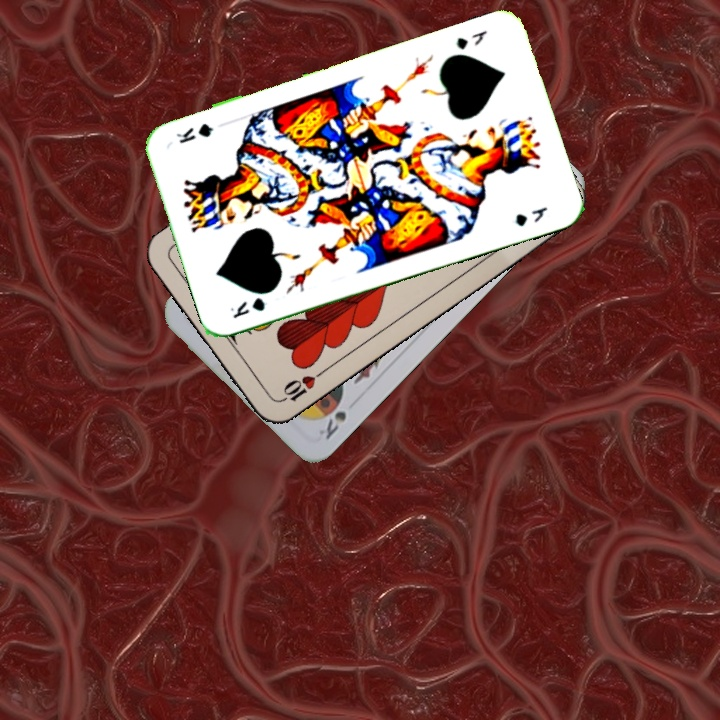GK: (226, 293, 271, 321), (452, 26, 490, 53)
H10: (275, 366, 327, 405)
SK: (314, 407, 349, 443)
